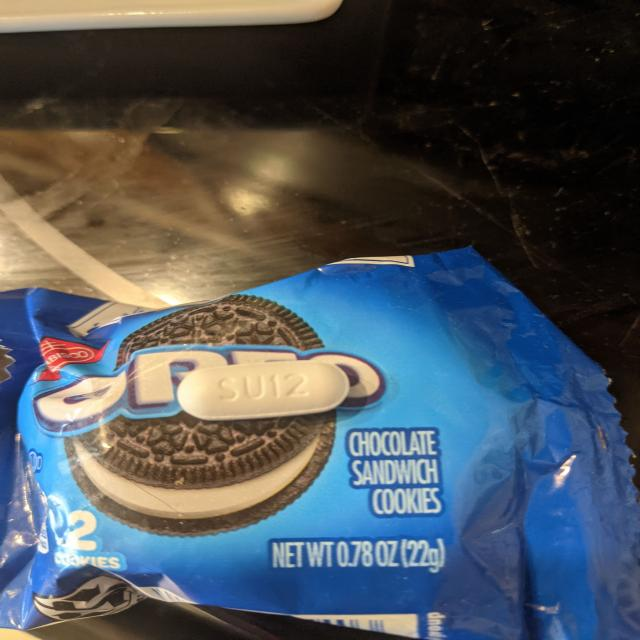non-organic waste: (176, 359, 352, 422)
